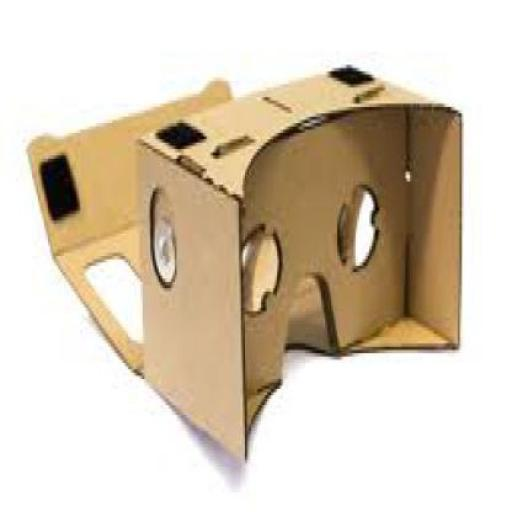cardboard: (137, 62, 460, 456), (27, 71, 227, 373)
